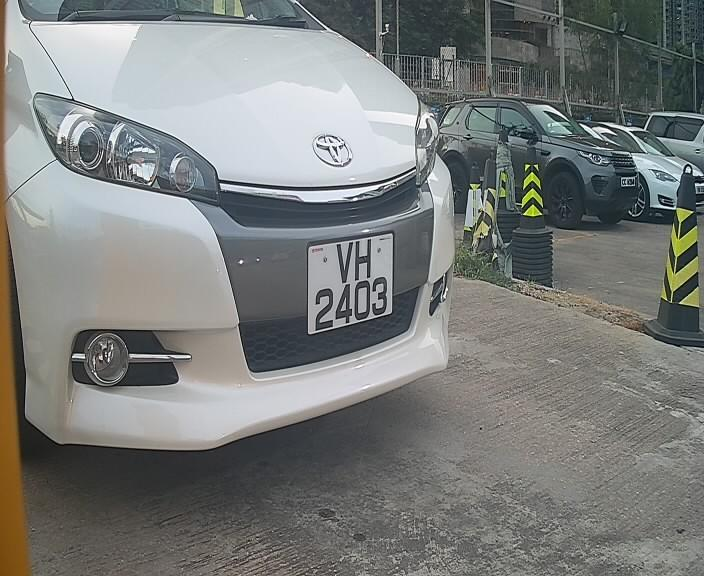privatecar: (16, 11, 472, 453)
